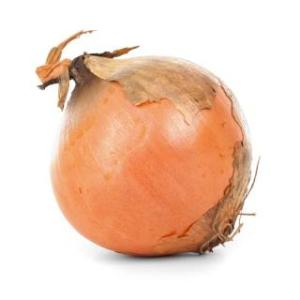onion: (36, 30, 252, 258)
